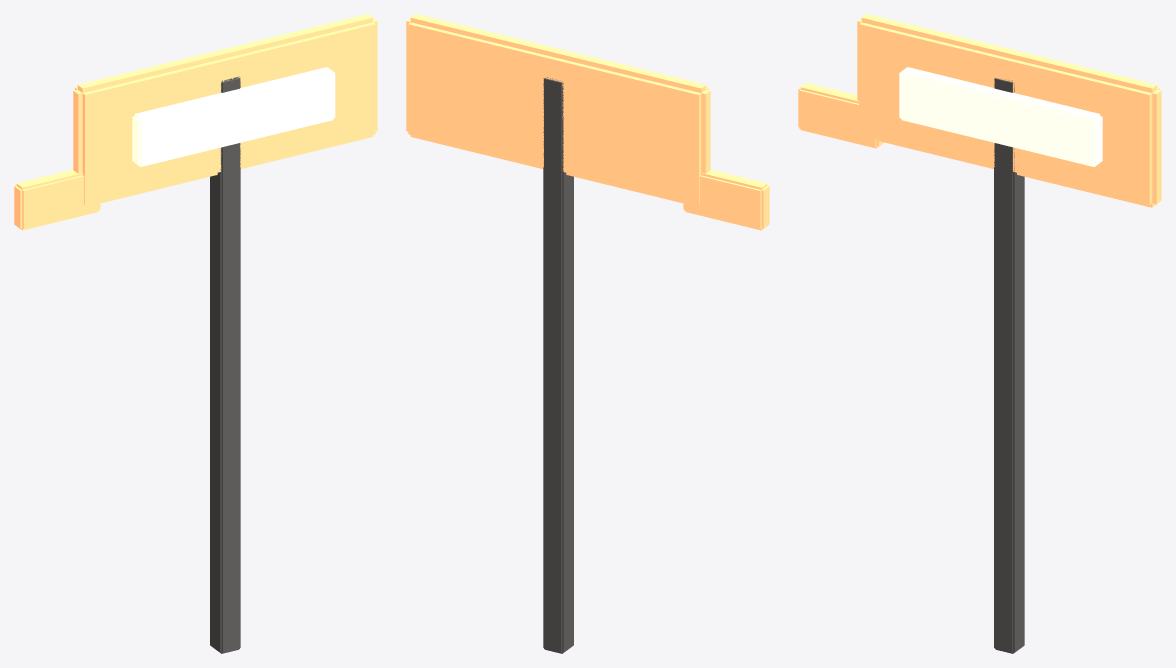
The model's file is neon.glb.
3 views of the same model, side by side, from view 1: azimuth 30°, elevation 25°; view 2: azimuth 150°, elevation 25°; view 3: azimuth 330°, elevation 25° (orthographic).
Visible parts, largest first — view 1: Board, Post, Script, Arrow; view 2: Board, Post, Arrow; view 3: Board, Post, Script, Arrow.
Part boxes in pixels (bbox=[...]): Board: bbox=[73, 14, 377, 204]; Post: bbox=[210, 76, 240, 653]; Script: bbox=[132, 67, 335, 166]; Arrow: bbox=[14, 169, 100, 230]; Board: bbox=[406, 14, 710, 204]; Post: bbox=[543, 77, 573, 653]; Arrow: bbox=[683, 169, 769, 230]; Board: bbox=[857, 14, 1161, 207]; Post: bbox=[994, 78, 1024, 653]; Script: bbox=[899, 67, 1102, 166]; Arrow: bbox=[798, 83, 884, 148].
Bounding box in the file's own units: 2.45 × 3.9 × 0.22.
